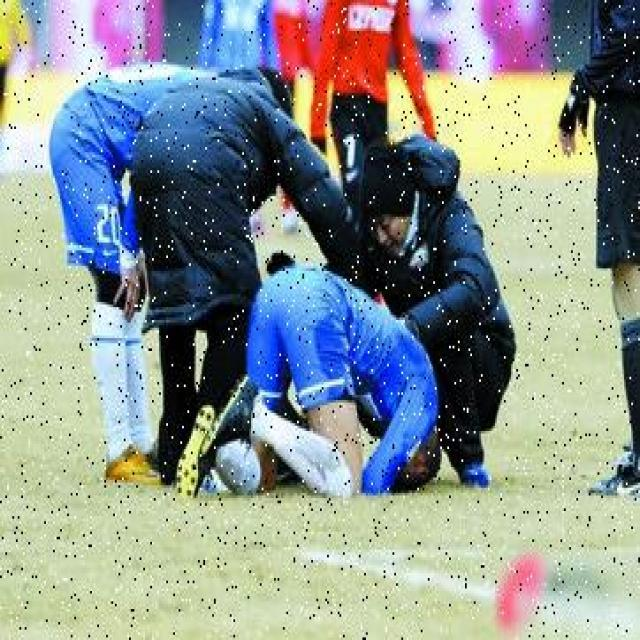fall: (180, 286, 433, 493)
